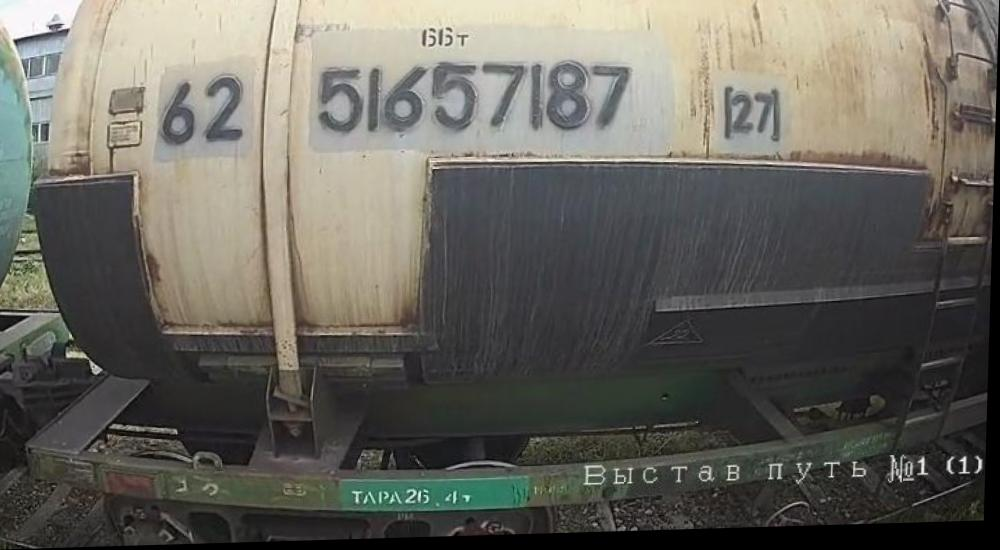Wagon-number: (313, 55, 641, 148)
